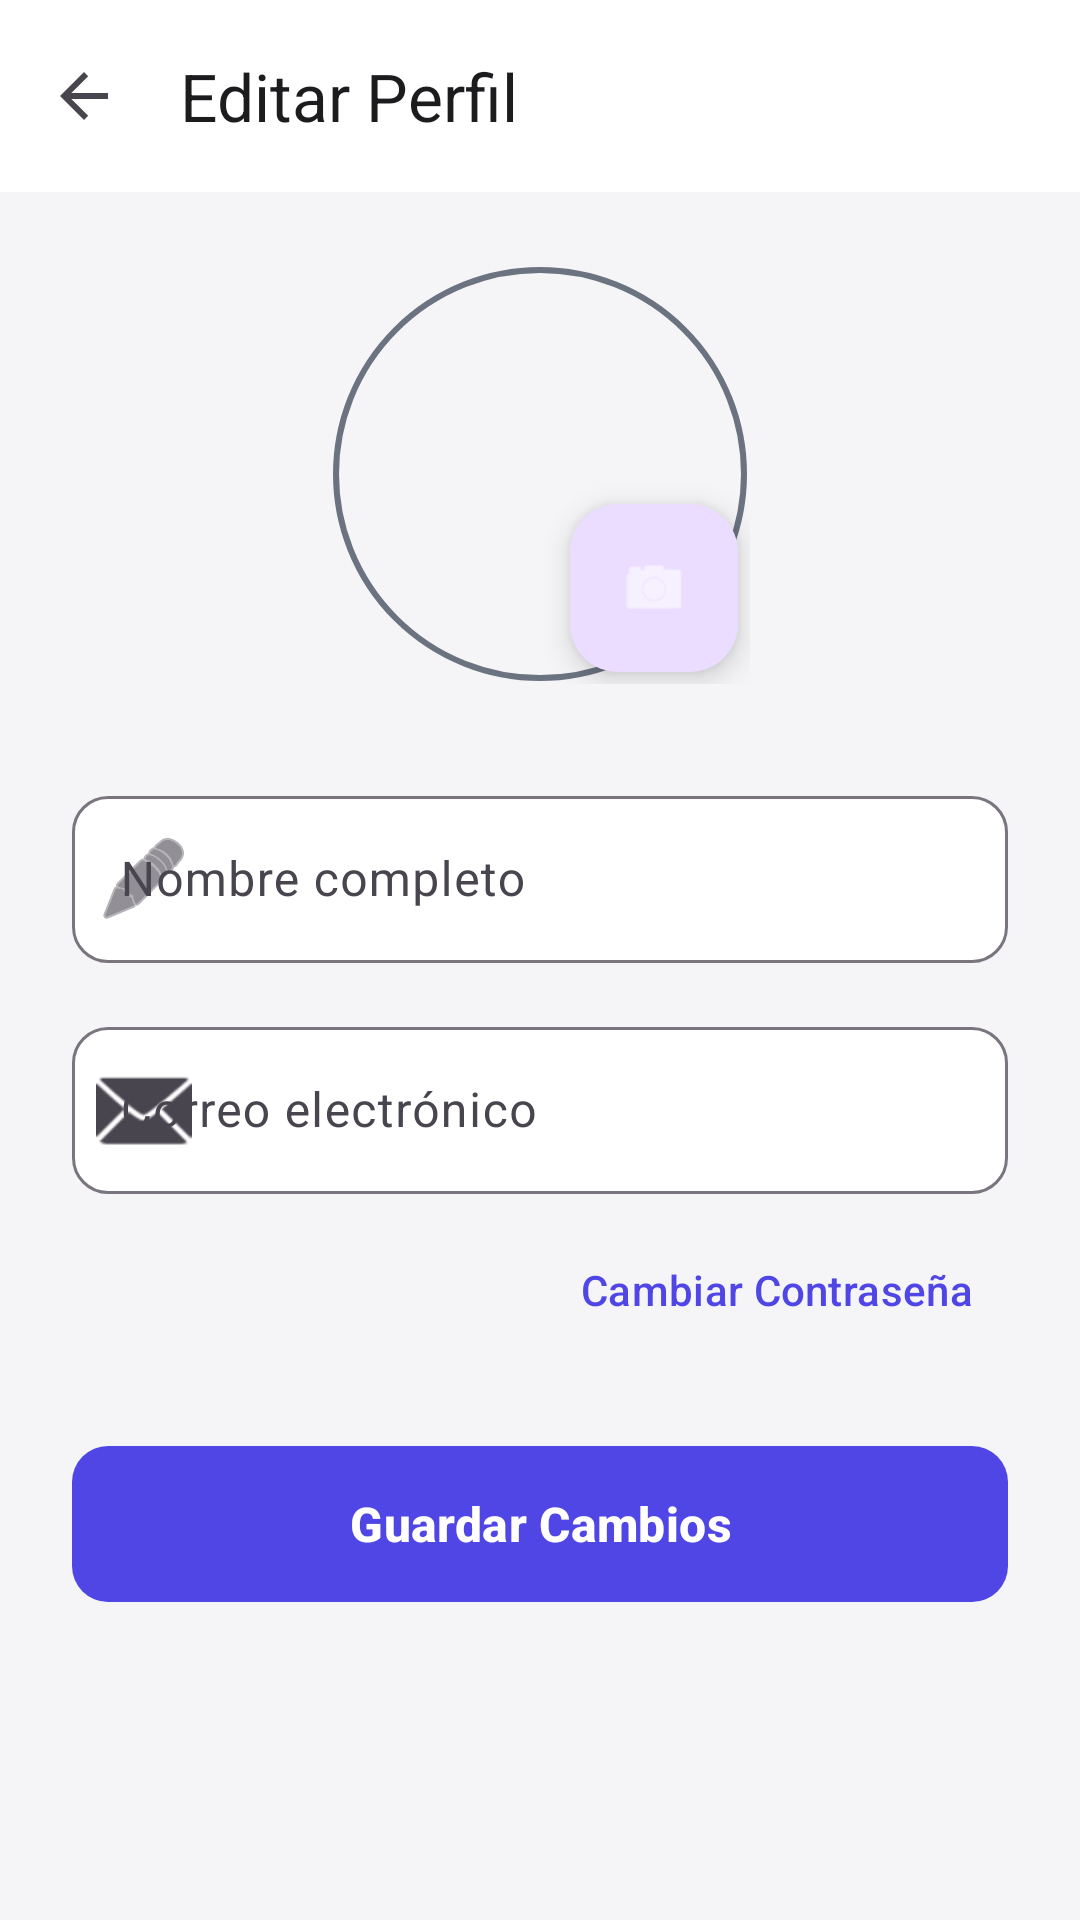

Named icons in this screenshot (1080 x 1920) and their centers, [x,y]:
Cambiar foto: [654,588]
